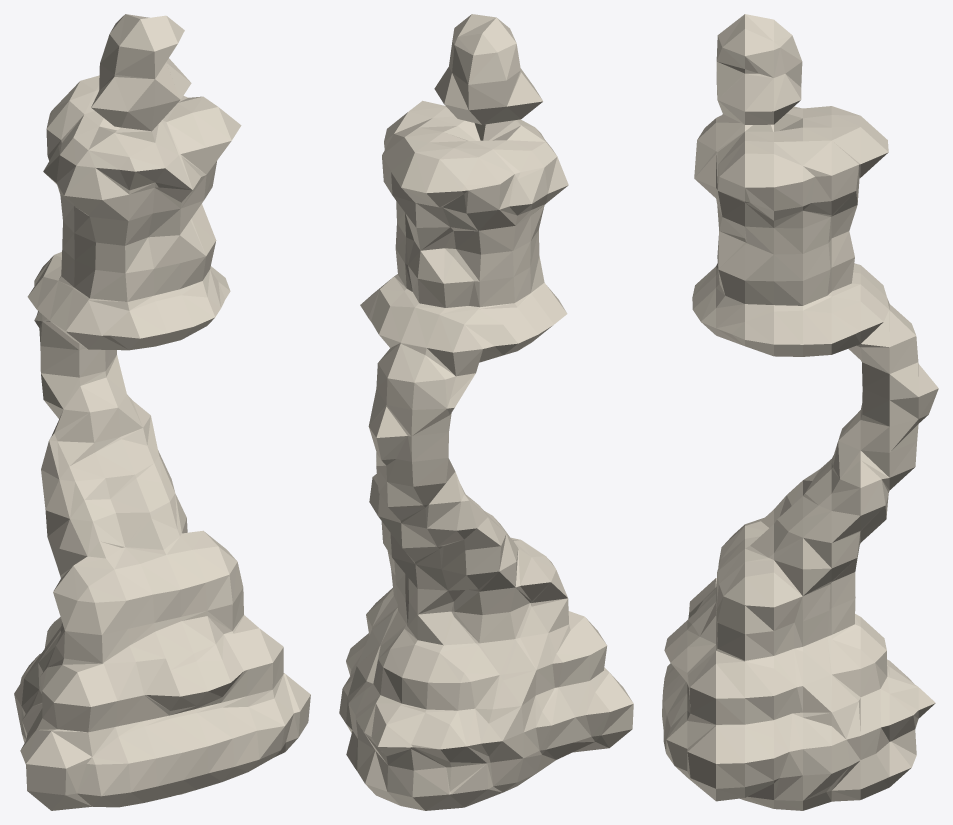
File: king.glb
The picture shows the model from 3 angles, left to right: view 1: azimuth 30°, elevation 25°; view 2: azimuth 150°, elevation 25°; view 3: azimuth 270°, elevation 25°; orthographic projection. The views are drawn at different scales.
Parts seen in each view (by area): view 1: king; view 2: king; view 3: king.
Part boxes in pixels (x1,y1,x2,y2): king: [14, 14, 310, 810]; king: [339, 14, 633, 810]; king: [662, 14, 938, 810].
Bounding box in the file's own units: 0.4058 × 1.06 × 0.3541.
